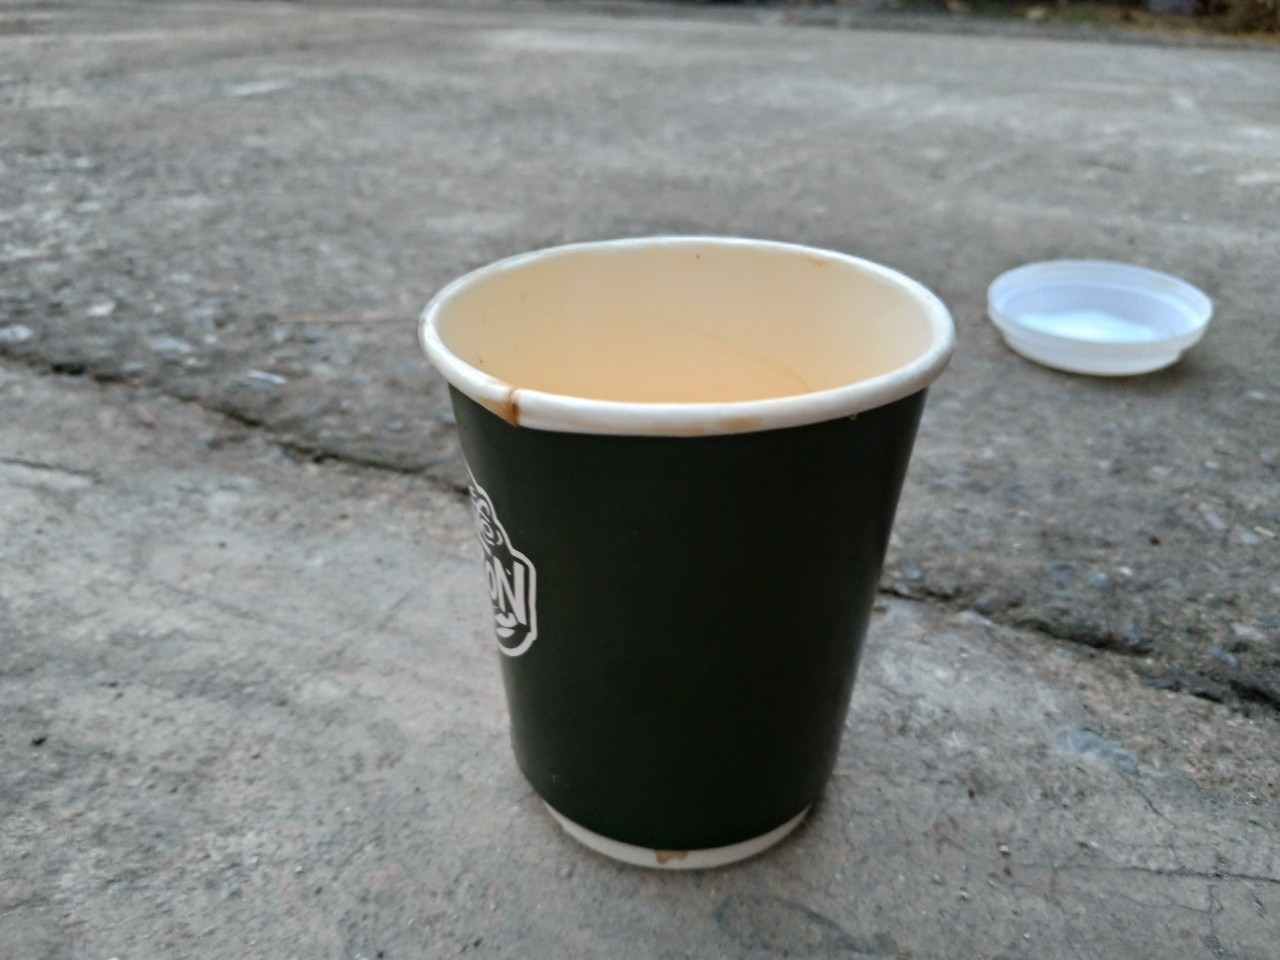PaperCup: (418, 234, 958, 878)
